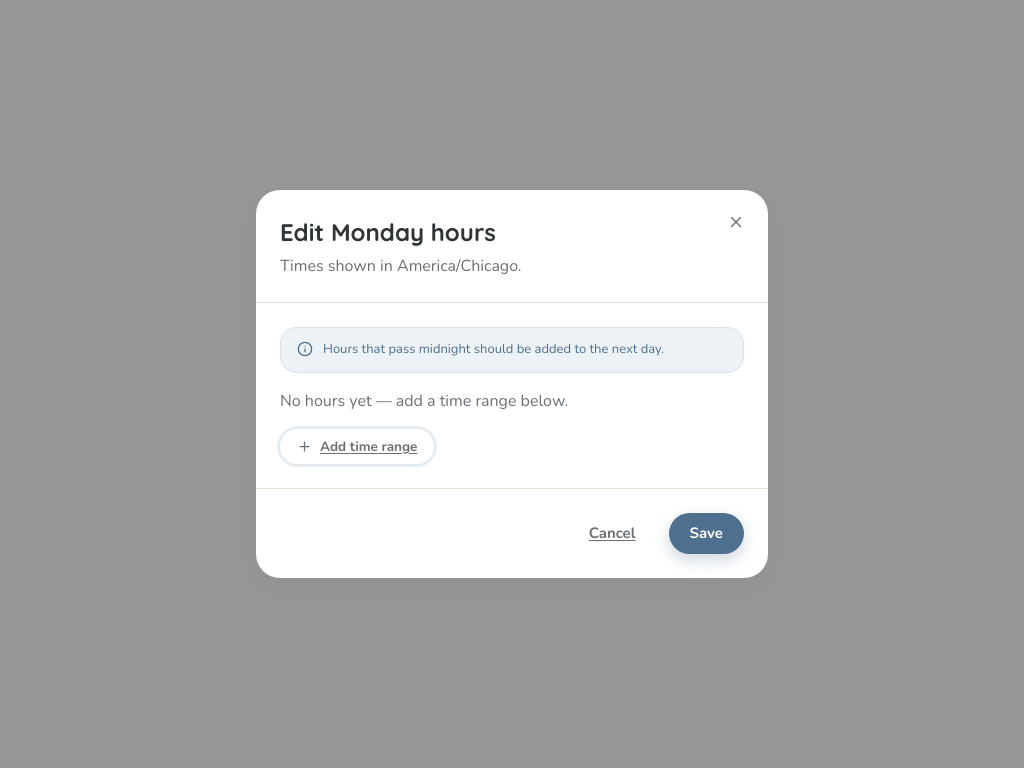
it: DayHoursModal — backend 422 keeps the modal open with an in-modal error alert › a generic (non-ApiError) failure shows a fallback message and keeps the modal open
The image size is (1024, 768).
Click the button "Add time range" at (357, 446), box top-left (280, 429), bottom-right (434, 464)
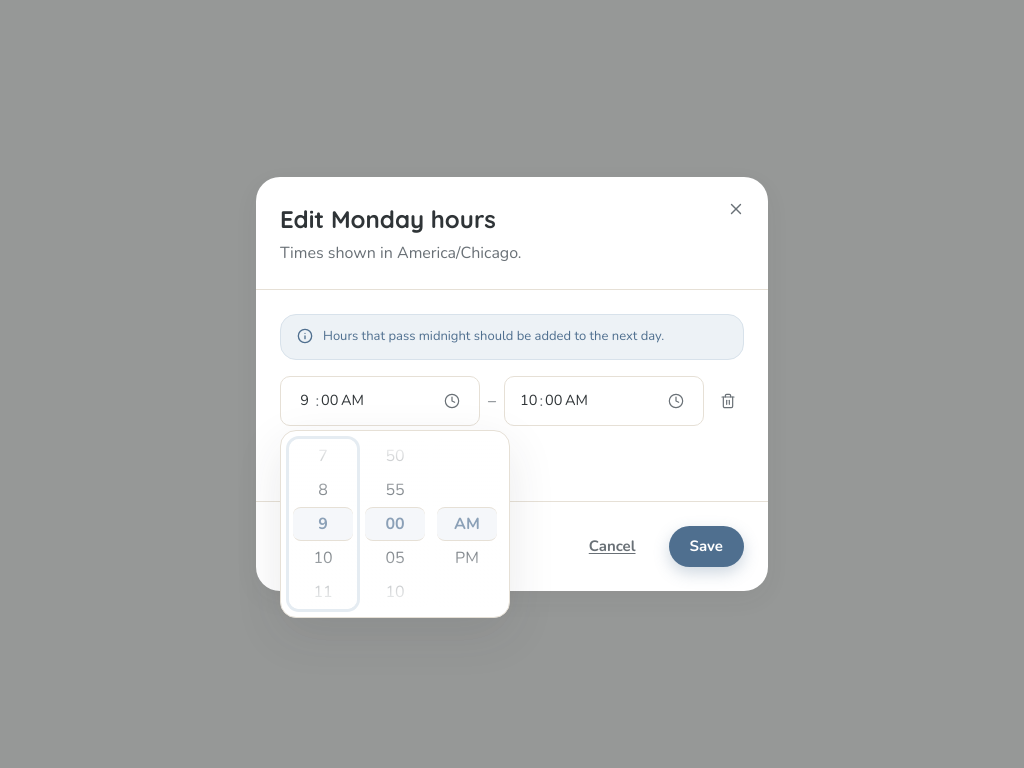
Click the button "Save" at (706, 546), box top-left (668, 526), bottom-right (744, 567)
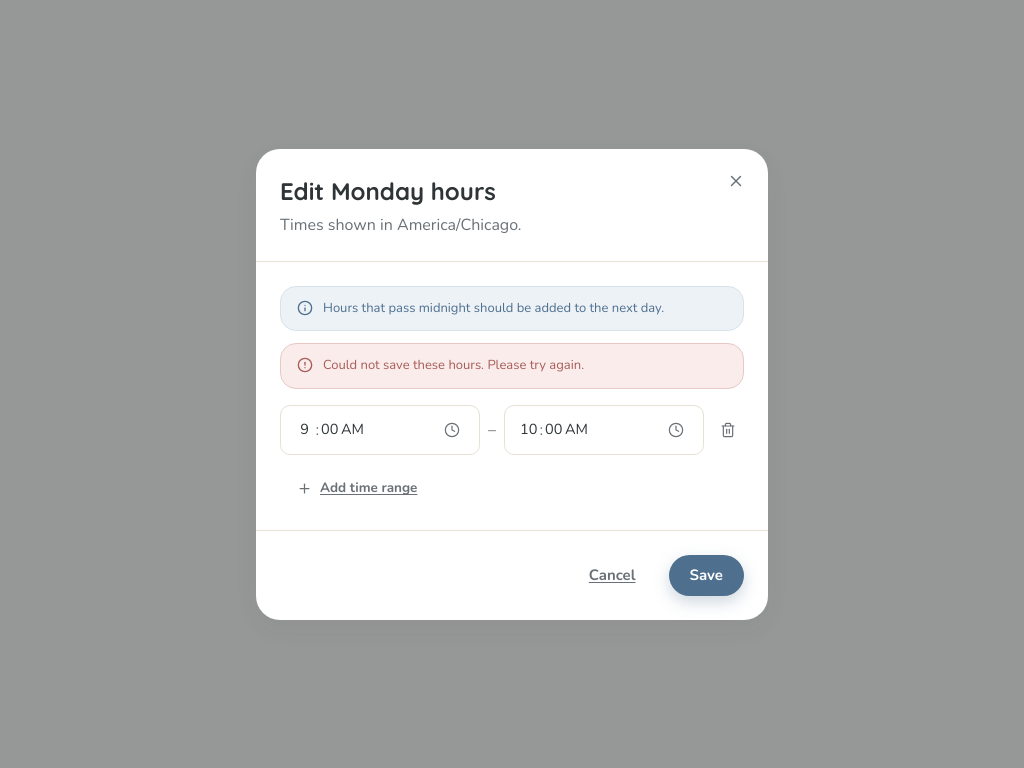
Expected: the text "Could not save these hours. Please try again." is shown, top-left (323, 356), bottom-right (584, 374)
